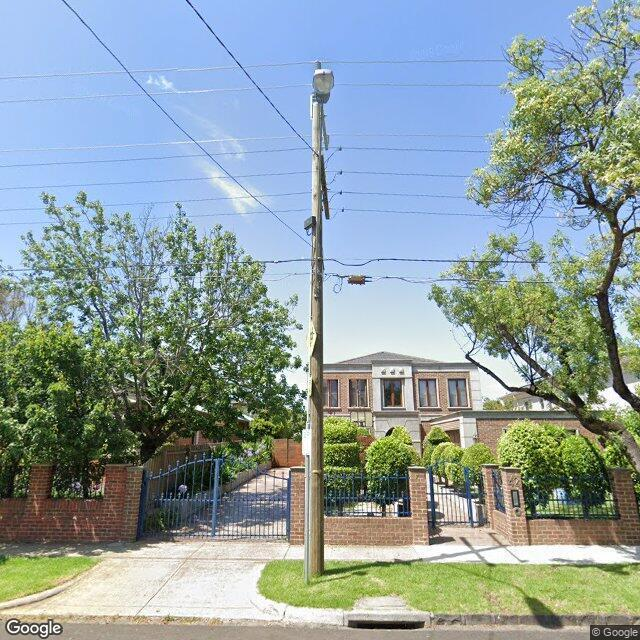crossarm: (320, 146, 345, 220)
streetlight: (311, 69, 336, 157)
timber-pole: (303, 102, 325, 584)
